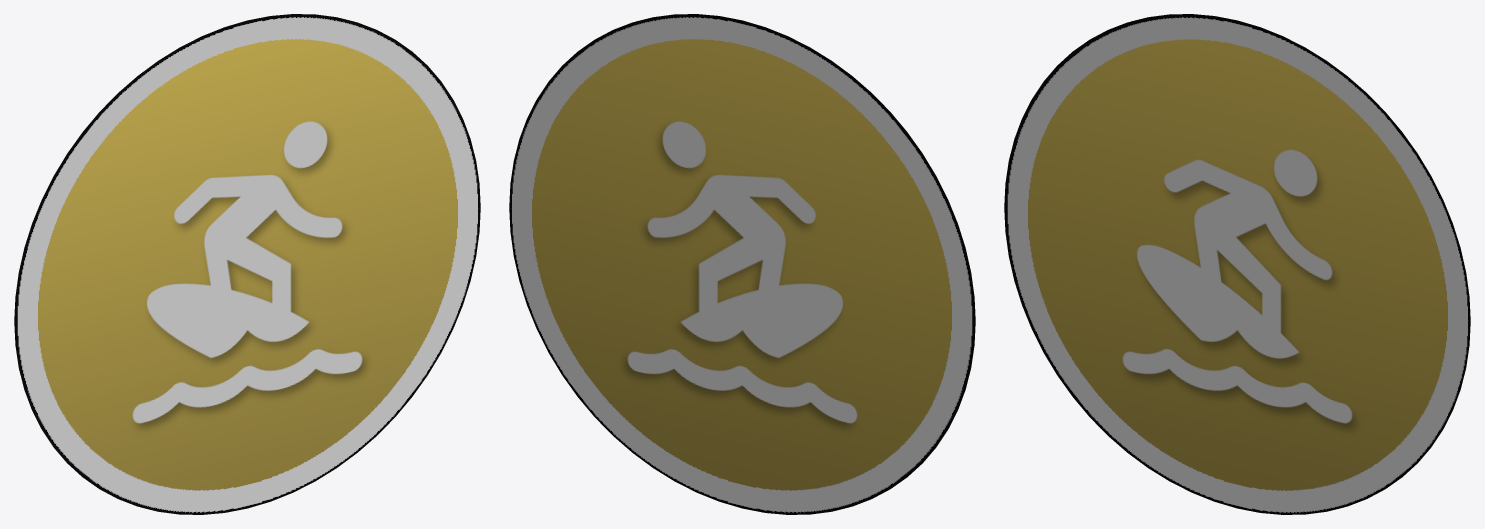
The model's file is surfboard.obj.
3 views of the same model, side by side, from view 1: azimuth 30°, elevation 25°; view 2: azimuth 150°, elevation 25°; view 3: azimuth 330°, elevation 25° (orthographic).
Parts seen in each view (by area): view 1: badge; view 2: badge; view 3: badge.
Boxes of the visible parts, <box> form: badge: <box>14,14,480,514</box>; badge: <box>509,14,975,514</box>; badge: <box>1004,14,1470,514</box>.
Size of the model in its own units: 1 by 1 by 0.
1 material, 1 textured.
